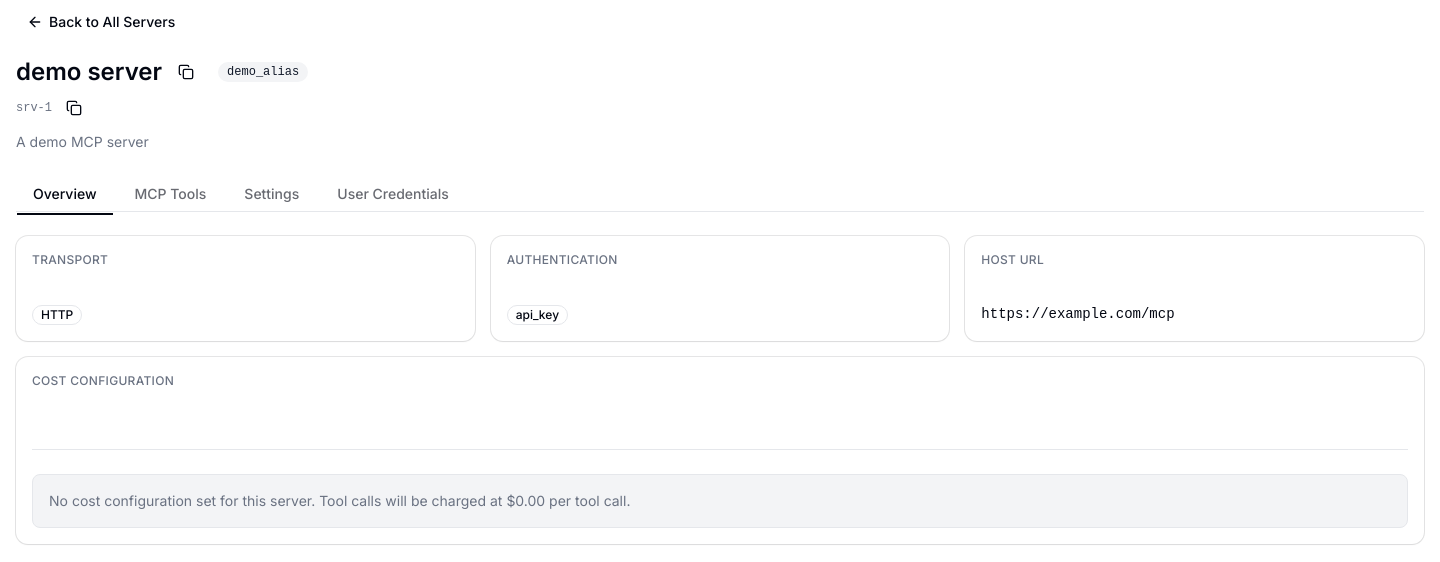
MCPServerView › shows stored credentials to a view-only admin session without a revoke control
What coordinates should you click on to do the following:
click the tab "User Credentials"
I would click on:
 (393, 194)
Its box is 320,176 -> 466,210.
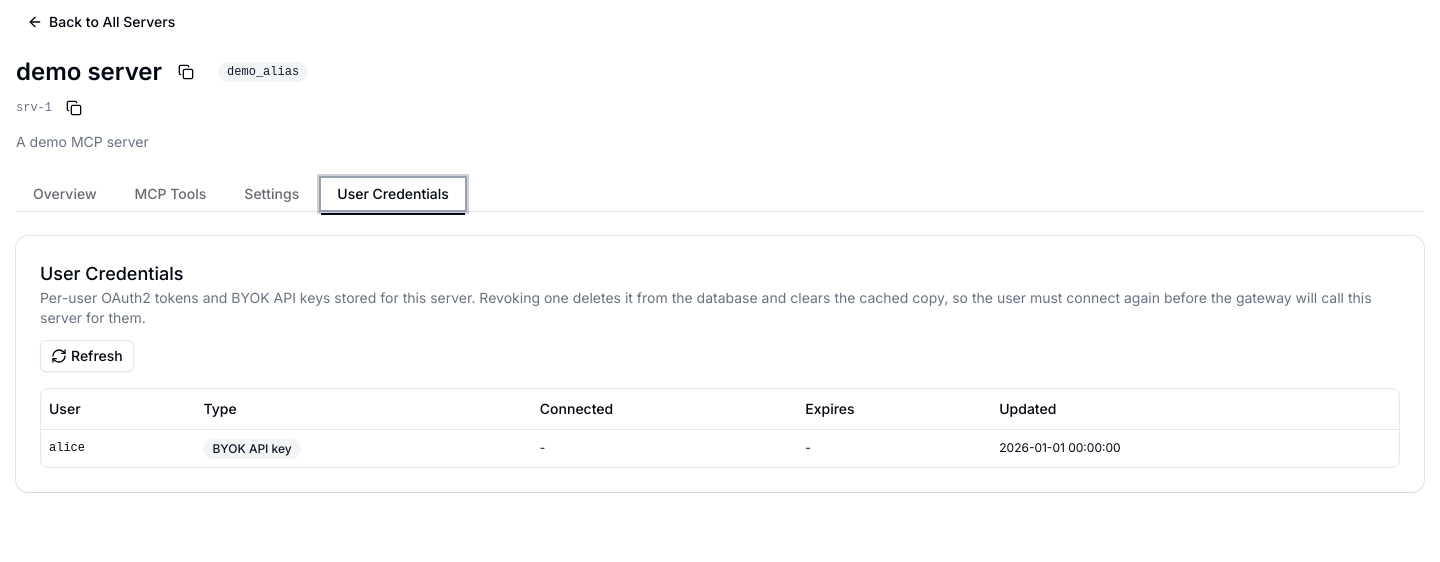
Check: the row "alice BYOK API key - - 2026-01-01 00:00:00" is shown, box 41,429 -> 1399,466
